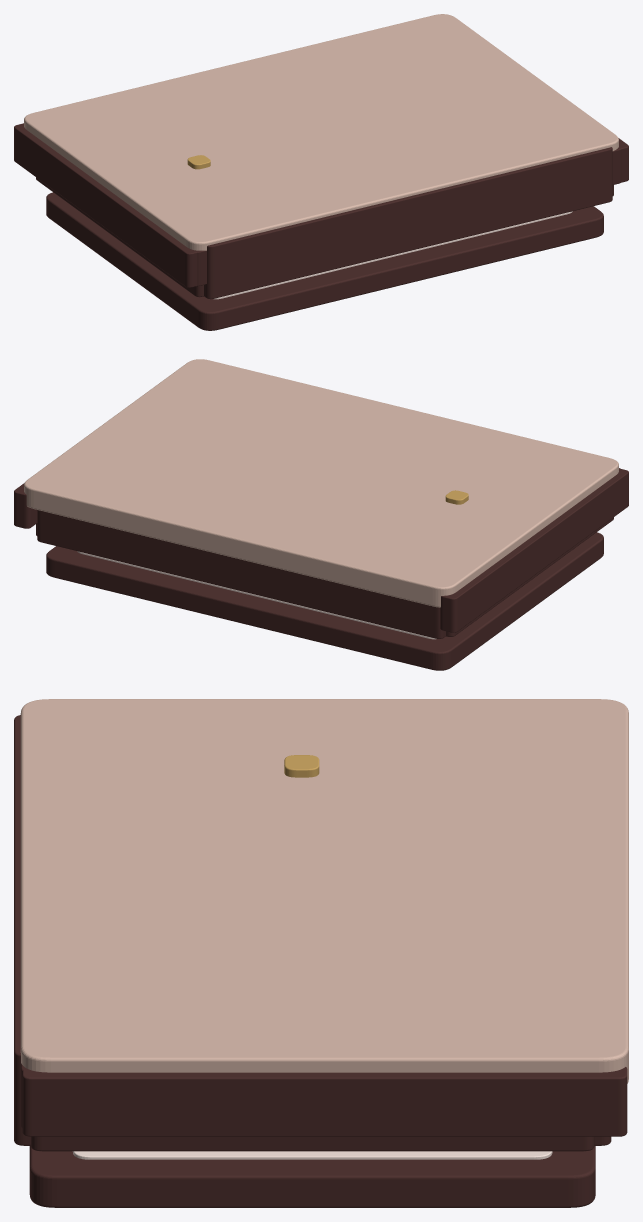
The model's file is you-are-important-box.glb.
The picture shows the model from 3 angles, top to bottom: view 1: azimuth 30°, elevation 25°; view 2: azimuth 150°, elevation 25°; view 3: azimuth 270°, elevation 25°; orthographic projection. The views are drawn at different scales.
Visible parts, largest first — view 1: lid_panel, base_front_wall, base_floor, lid_left_lip, inner_tray, lid_front_lip, base_left_wall; view 2: lid_panel, base_floor, base_back_wall, lid_left_lip, inner_tray, lid_right_lip, base_left_wall; view 3: lid_panel, lid_right_lip, base_floor, base_right_wall, inner_tray, base_front_wall, item_perfume.
Boxes of the visible parts, x1,y1,x2,y2 form: lid_panel: (24, 14, 618, 250); base_front_wall: (204, 147, 612, 299); base_floor: (46, 192, 603, 330); lid_left_lip: (14, 123, 197, 287); inner_tray: (213, 211, 572, 299); lid_front_lip: (193, 146, 621, 286); base_left_wall: (36, 177, 203, 297); lid_panel: (24, 359, 618, 607); base_floor: (46, 532, 603, 670); base_back_wall: (37, 510, 445, 638); lid_left_lip: (440, 469, 628, 632); inner_tray: (77, 551, 436, 639); lid_right_lip: (14, 483, 37, 528); base_left_wall: (446, 517, 613, 636); lid_panel: (20, 699, 628, 1083); lid_right_lip: (22, 1067, 627, 1136); base_floor: (29, 1146, 595, 1207); base_right_wall: (31, 1136, 594, 1151); inner_tray: (72, 1151, 552, 1159); base_front_wall: (14, 715, 30, 1145); item_perfume: (284, 755, 319, 777).
Size of the model in its own units: 6.52 by 1.38 by 4.56.
